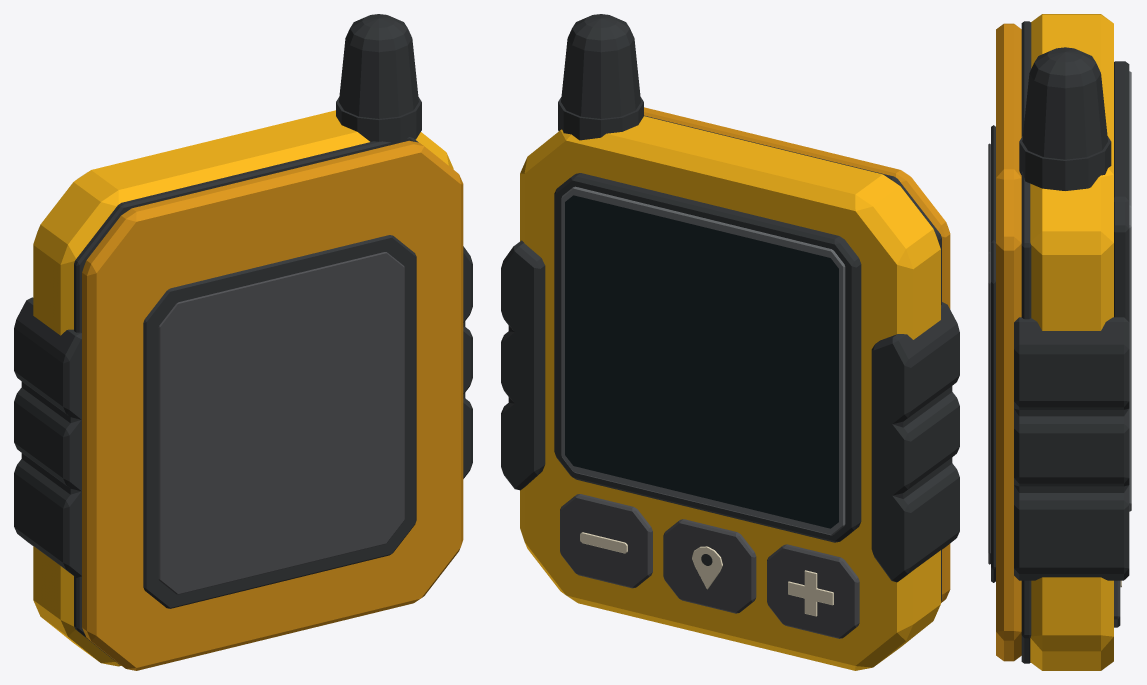
The model's file is peak_tracker.glb.
The picture shows the model from 3 angles, left to right: view 1: azimuth 30°, elevation 25°; view 2: azimuth 150°, elevation 25°; view 3: azimuth 270°, elevation 25°; orthographic projection. The views are drawn at different scales.
Visible parts, largest first — view 1: Tracker_Body, Tracker_Antenna; view 2: Tracker_Body, Tracker_Screen, Tracker_Antenna, Tracker_Button_M, Tracker_Button_L, Tracker_Button_R; view 3: Tracker_Body, Tracker_Antenna, Tracker_Button_L.
Boxes of the visible parts, x1,y1,x2,y2 form: Tracker_Body: [14, 110, 472, 670]; Tracker_Antenna: [336, 14, 421, 144]; Tracker_Body: [501, 107, 959, 670]; Tracker_Screen: [565, 195, 838, 528]; Tracker_Antenna: [558, 14, 643, 140]; Tracker_Button_M: [663, 519, 756, 613]; Tracker_Button_L: [560, 494, 652, 588]; Tracker_Button_R: [767, 544, 859, 638]; Tracker_Body: [988, 14, 1131, 670]; Tracker_Antenna: [1019, 47, 1111, 190]; Tracker_Button_L: [1114, 580, 1121, 627].
Size of what is drawn, in the model's own units: 0.0896 by 0.12 by 0.0255.
2 materials, 1 textured.
